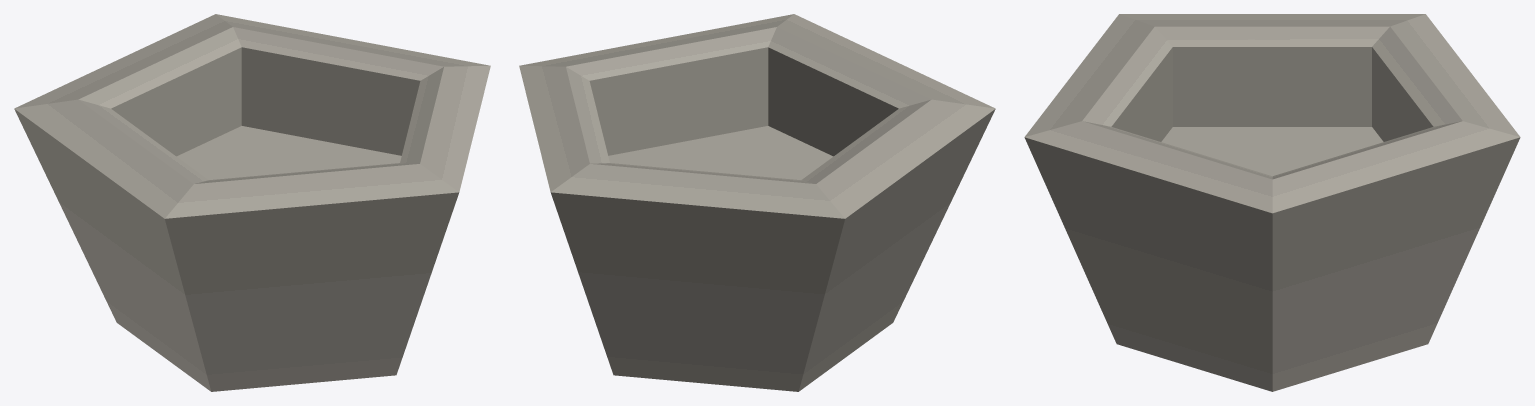
The model's file is YN_FirePlace1.fbx.
3 views of the same model, side by side, from view 1: azimuth 30°, elevation 25°; view 2: azimuth 150°, elevation 25°; view 3: azimuth 270°, elevation 25° (orthographic).
Parts seen in each view (by area): view 1: FirePlace1; view 2: FirePlace1; view 3: FirePlace1.
Boxes of the visible parts, x1,y1,x2,y2 form: FirePlace1: (14, 14, 490, 391); FirePlace1: (519, 14, 995, 391); FirePlace1: (1024, 14, 1520, 391).
Bounding box in the file's own units: 0.5763 × 0.3049 × 0.606.
